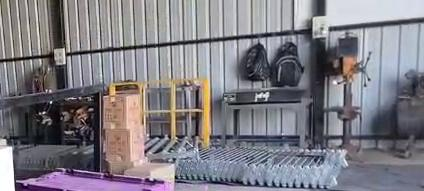box: (16, 170, 172, 190)
